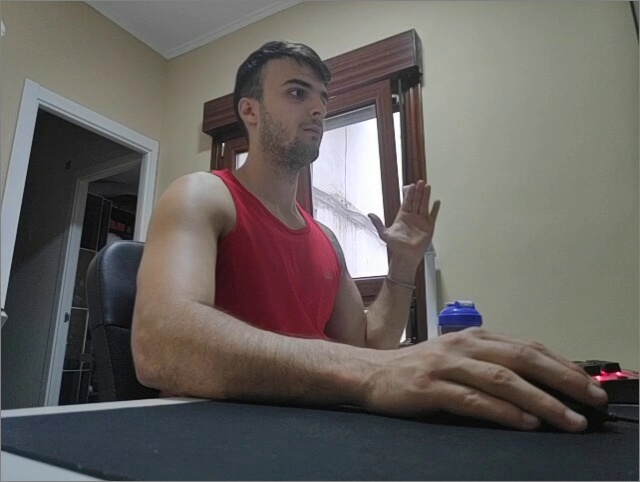Palm: (364, 177, 443, 257)
